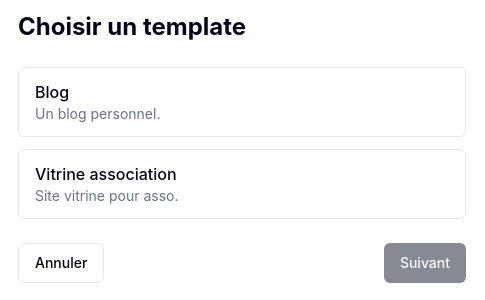
Test: NewProjectWizard › enables Next button after selecting a template
Step 1. Click the text "Blog" → (52, 92), box [35,82,69,102]
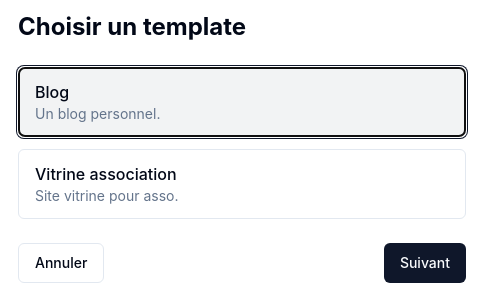
Expected: the button "Suivant" is enabled, [384,243,466,283]
